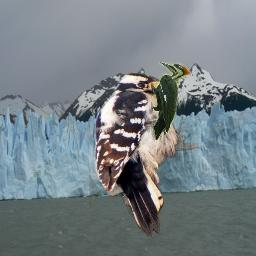Woodpecker: (89, 70, 200, 237), (151, 62, 191, 140)
